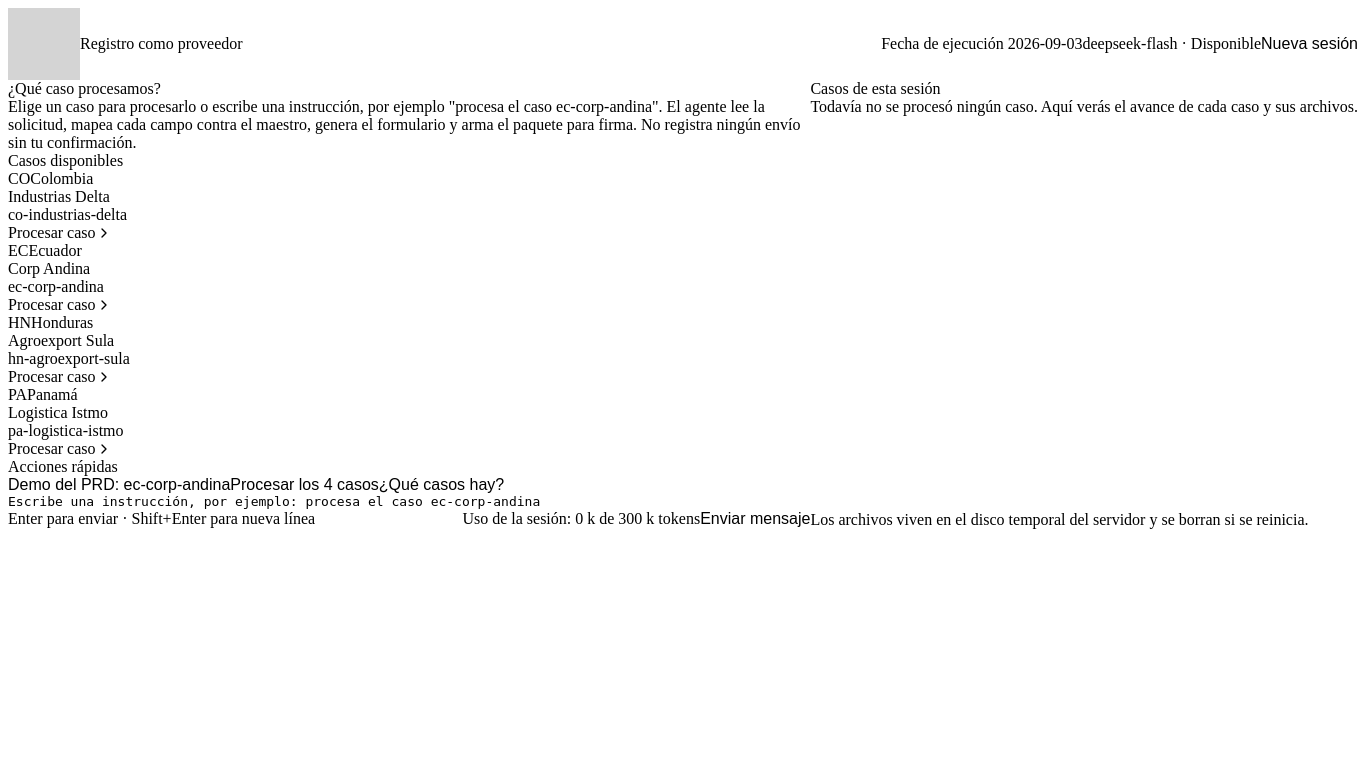
Scenario: App en escritorio, con la red simulada en fetch › la tarjeta de ec-corp-andina manda el pedido del PRD para su caso, sin acción y una sola vez con doble clic
Double-click the button with aria-label "Procesar caso Corp Andina, Ecuador (ec-corp-andina)" at (49, 268), box [8,242,810,314]
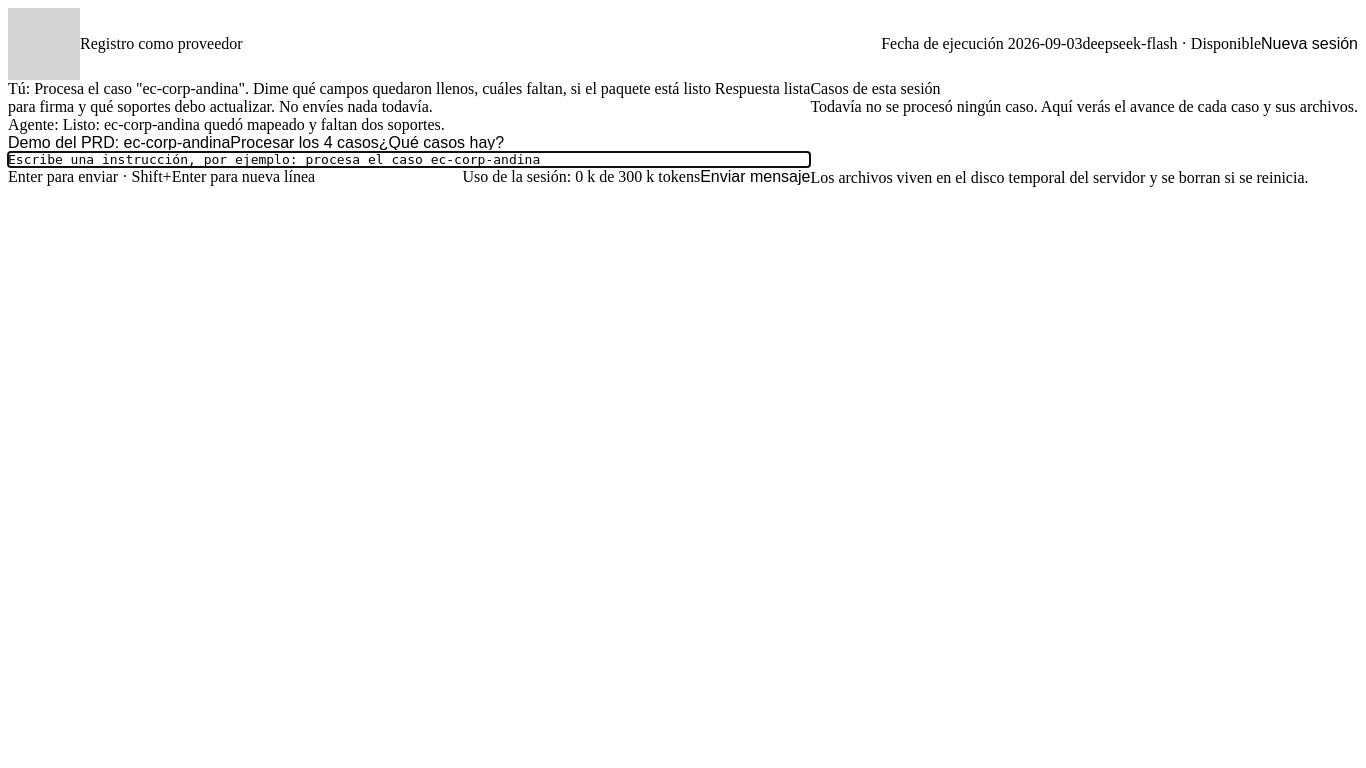
Result: the list item "Listo: ec-corp-andina quedó mapeado y faltan dos soportes." is shown at [63,116,445,133]
